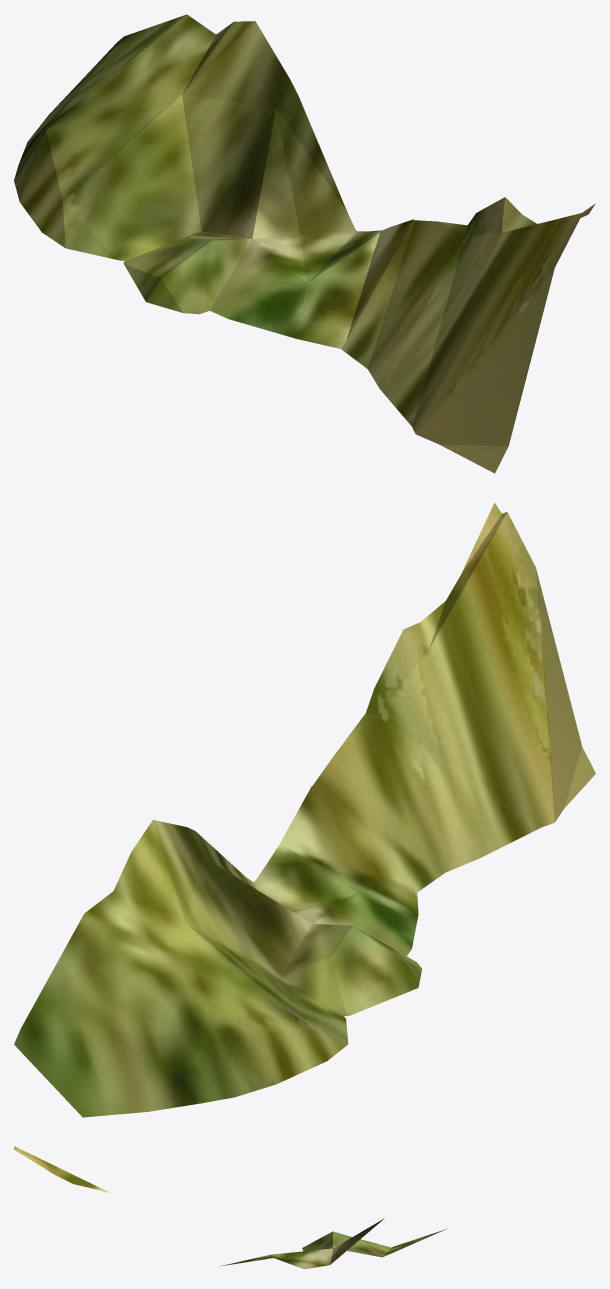
3 renders of one model, top to bottom at view 1: azimuth 30°, elevation 25°; view 2: azimuth 150°, elevation 25°; view 3: azimuth 270°, elevation 25°, orthographic. The views are drawn at different scales.
Bounding box in the file's own units: 0.1955 × 0.237 × 0.8374.
1 material, 1 textured.
